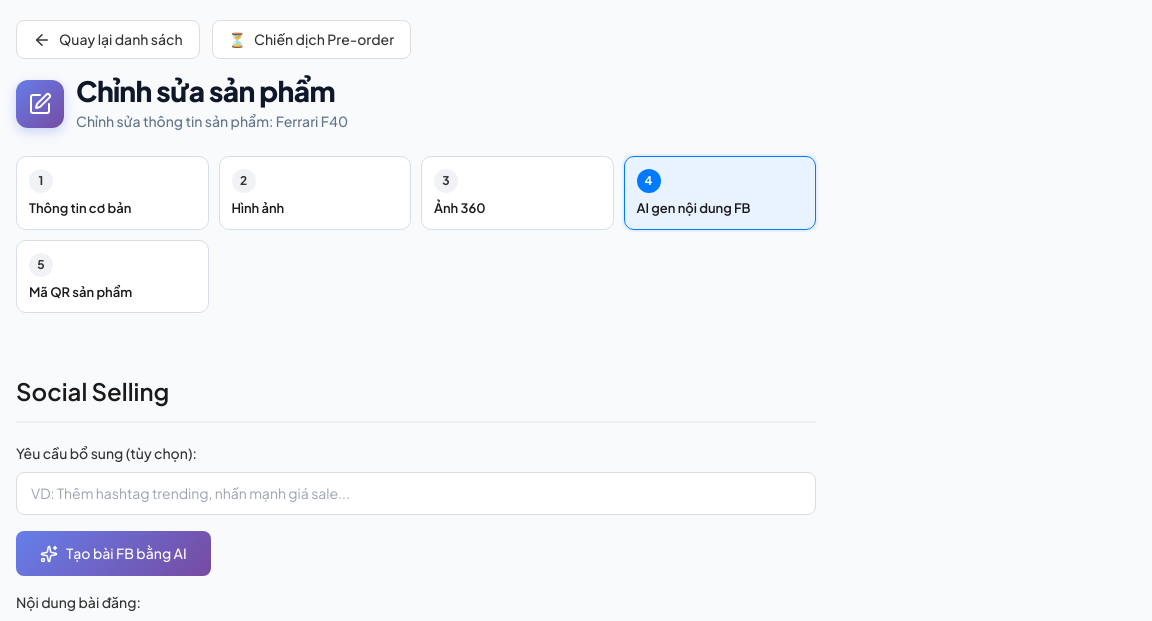
ItemDetailPage main flows › uses flattened fb-post response shape and fills the caption textarea
What coordinates should you click on to do the following:
click the button "Tạo bài FB bằng AI"
I would click on:
 (113, 554)
Its box is [16,531,211,576].
(page scrolled)
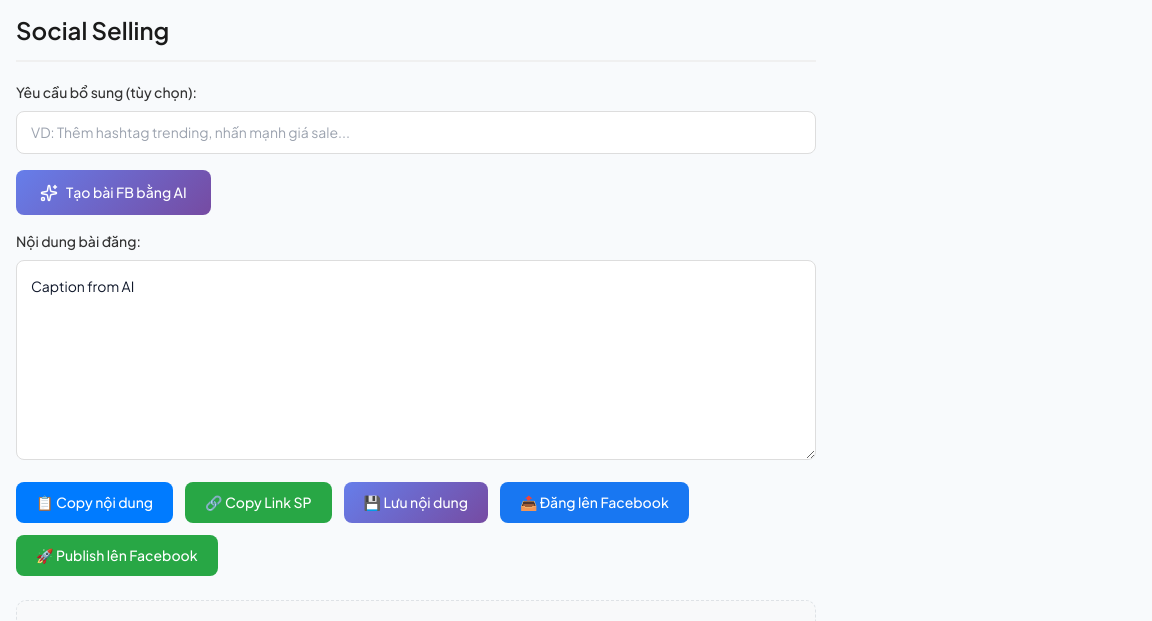
Result: the text box with placeholder "Nội dung bài FB sẽ hiển thị ở đây" holds "Caption from AI" at [16,260,816,460]
